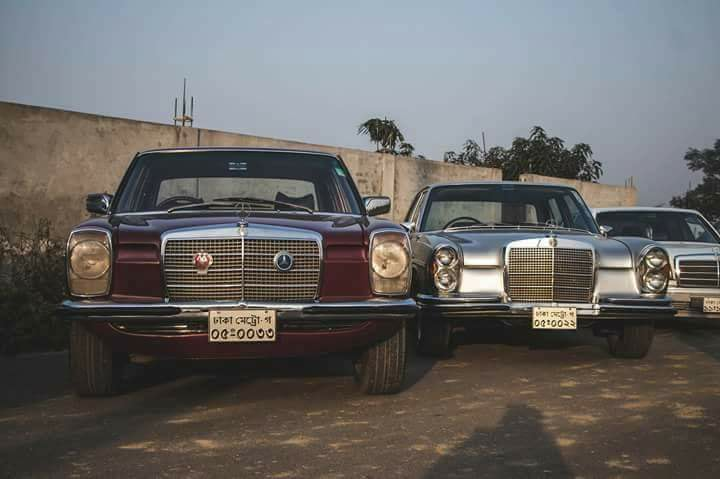registration_plate: (209, 309, 276, 342), (532, 306, 576, 329), (703, 297, 720, 312)
